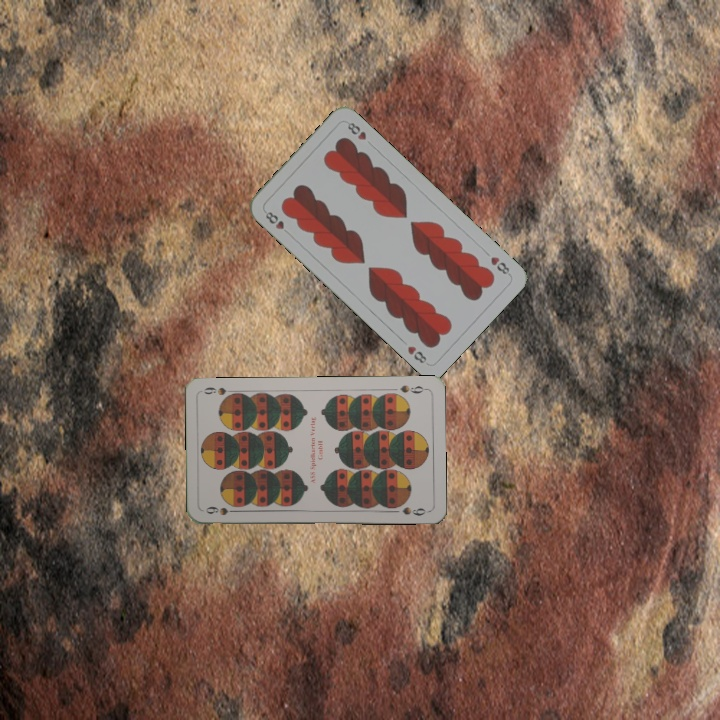H8: (261, 208, 293, 238), (487, 252, 513, 278)
S9: (202, 502, 242, 517), (396, 381, 429, 396)
